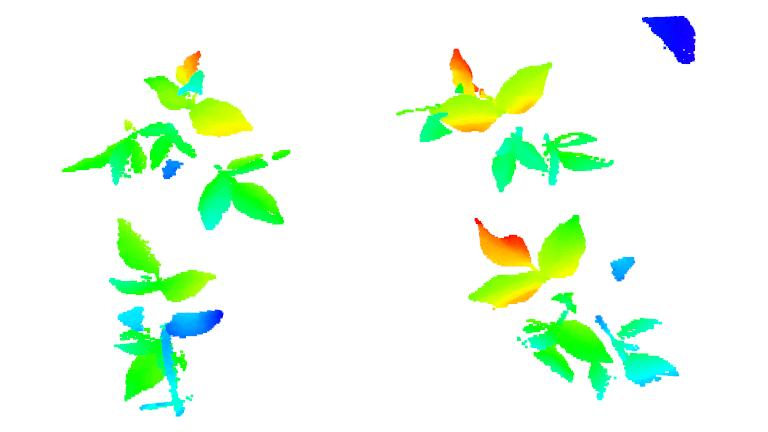mungbean: (56, 45, 296, 232), (465, 214, 683, 402), (413, 44, 618, 195), (111, 217, 227, 413)
